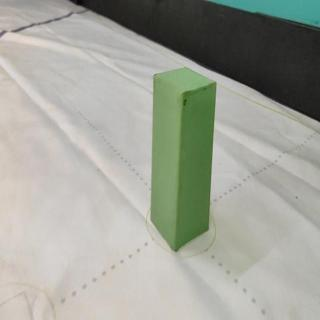greenbox: (151, 66, 217, 256)
